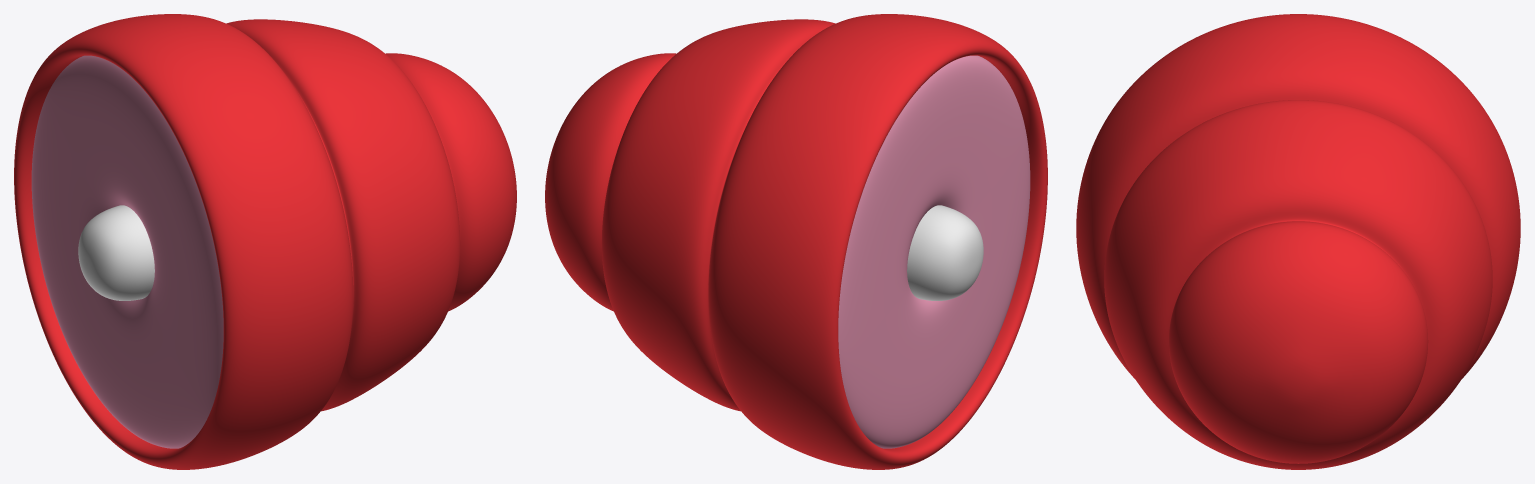
Rendered from Meat_HI.fbx.
3 views of the same model, side by side, from view 1: azimuth 30°, elevation 25°; view 2: azimuth 150°, elevation 25°; view 3: azimuth 270°, elevation 25° (orthographic). The views are drawn at different scales.
Visible parts, largest first — view 1: Circle, Roundcube; view 2: Circle, Roundcube; view 3: Circle.
Boxes of the visible parts, x1,y1,x2,y2 form: Circle: (14,14,516,469); Roundcube: (78,205,154,300); Circle: (545,14,1047,469); Roundcube: (907,205,983,300); Circle: (1076,14,1520,469).
Bounding box in the file's own units: 96.04 × 92.72 × 92.72.
